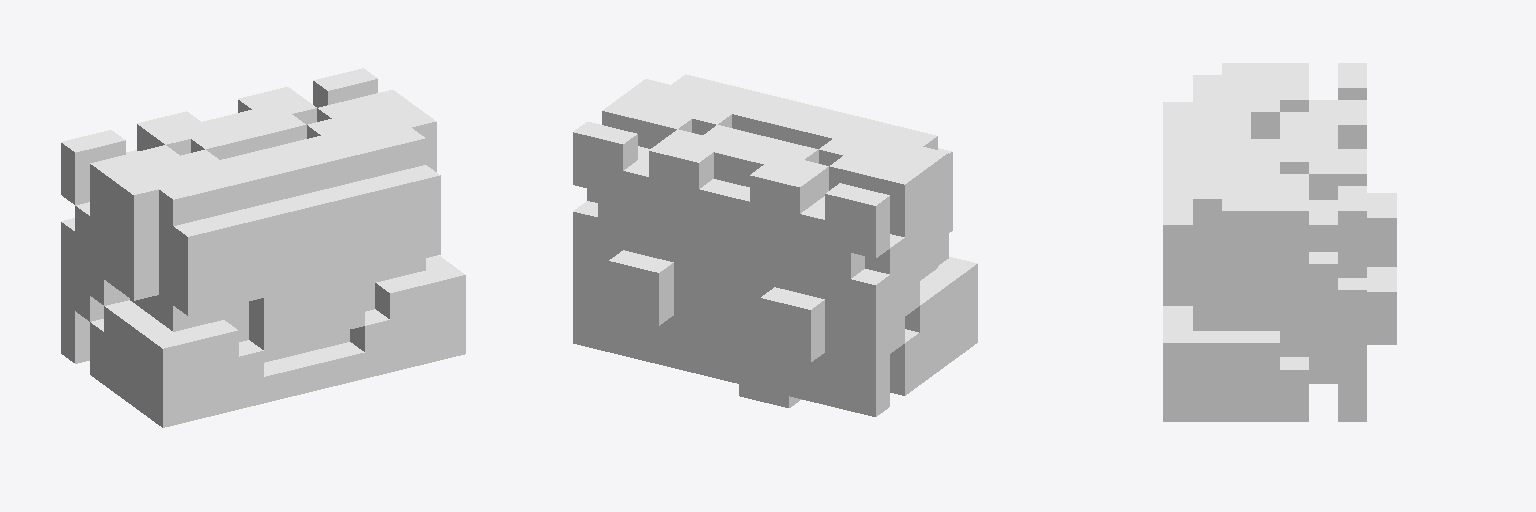
File: Mecha01_right_shoulder.obj
3 renders of one model, left to right at view 1: azimuth 30°, elevation 25°; view 2: azimuth 150°, elevation 25°; view 3: azimuth 270°, elevation 25°, orthographic.
Parts seen in each view (by area): view 1: object 1; view 2: object 1; view 3: object 1.
Part boxes in pixels (x1,y1,x2,y2): object 1: (61, 68, 465, 427); object 1: (573, 74, 977, 416); object 1: (1163, 63, 1396, 421).
Bounding box in the file's own units: 1.2 × 0.9 × 0.8.